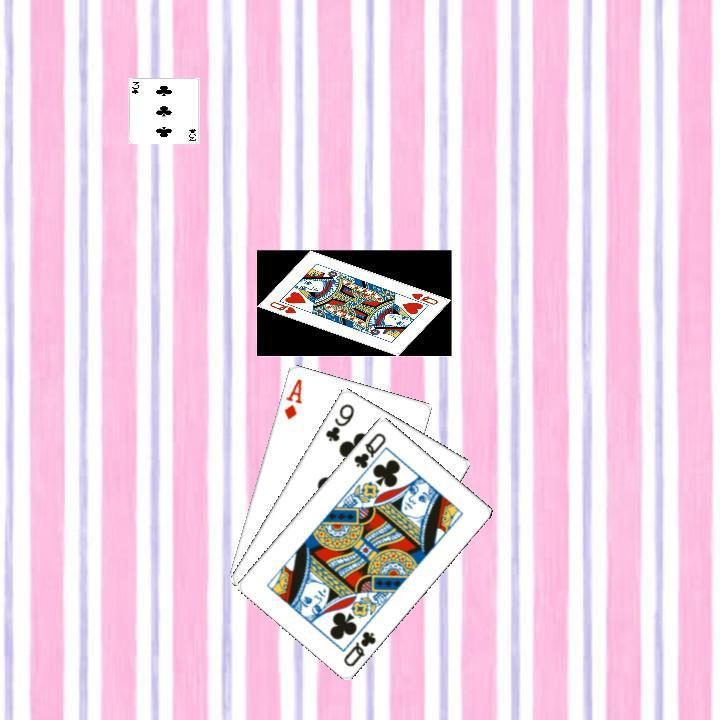9: (321, 399, 356, 444)
A: (279, 374, 304, 421)
Q: (349, 428, 388, 470), (339, 626, 378, 668)
